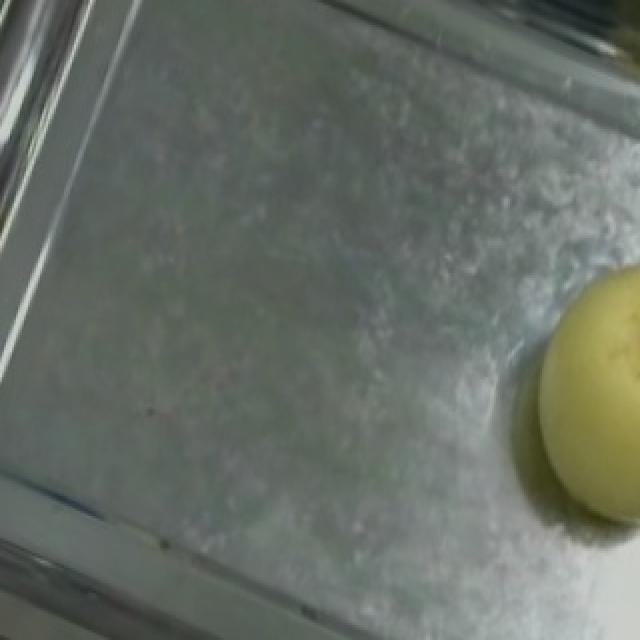Fruit: (486, 236, 640, 553)
